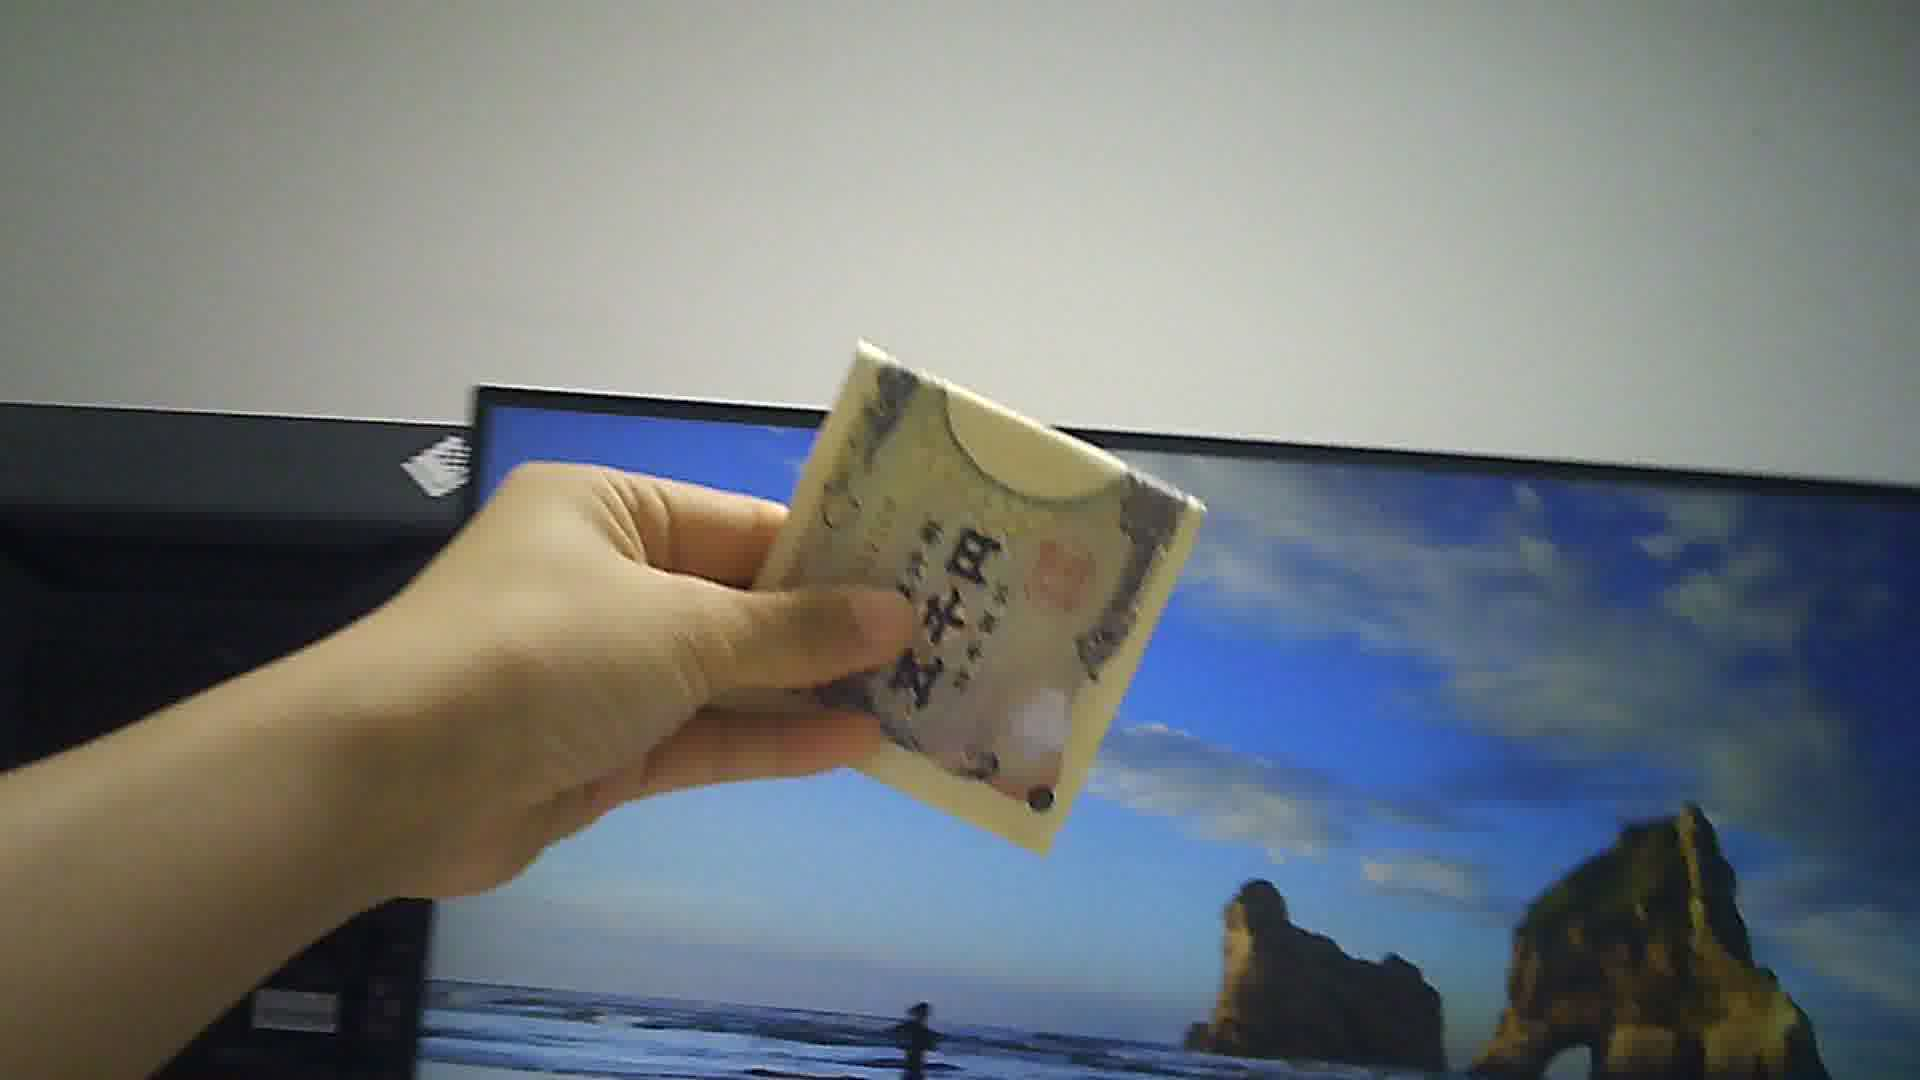5,000 Yen: (738, 334, 1211, 865)
